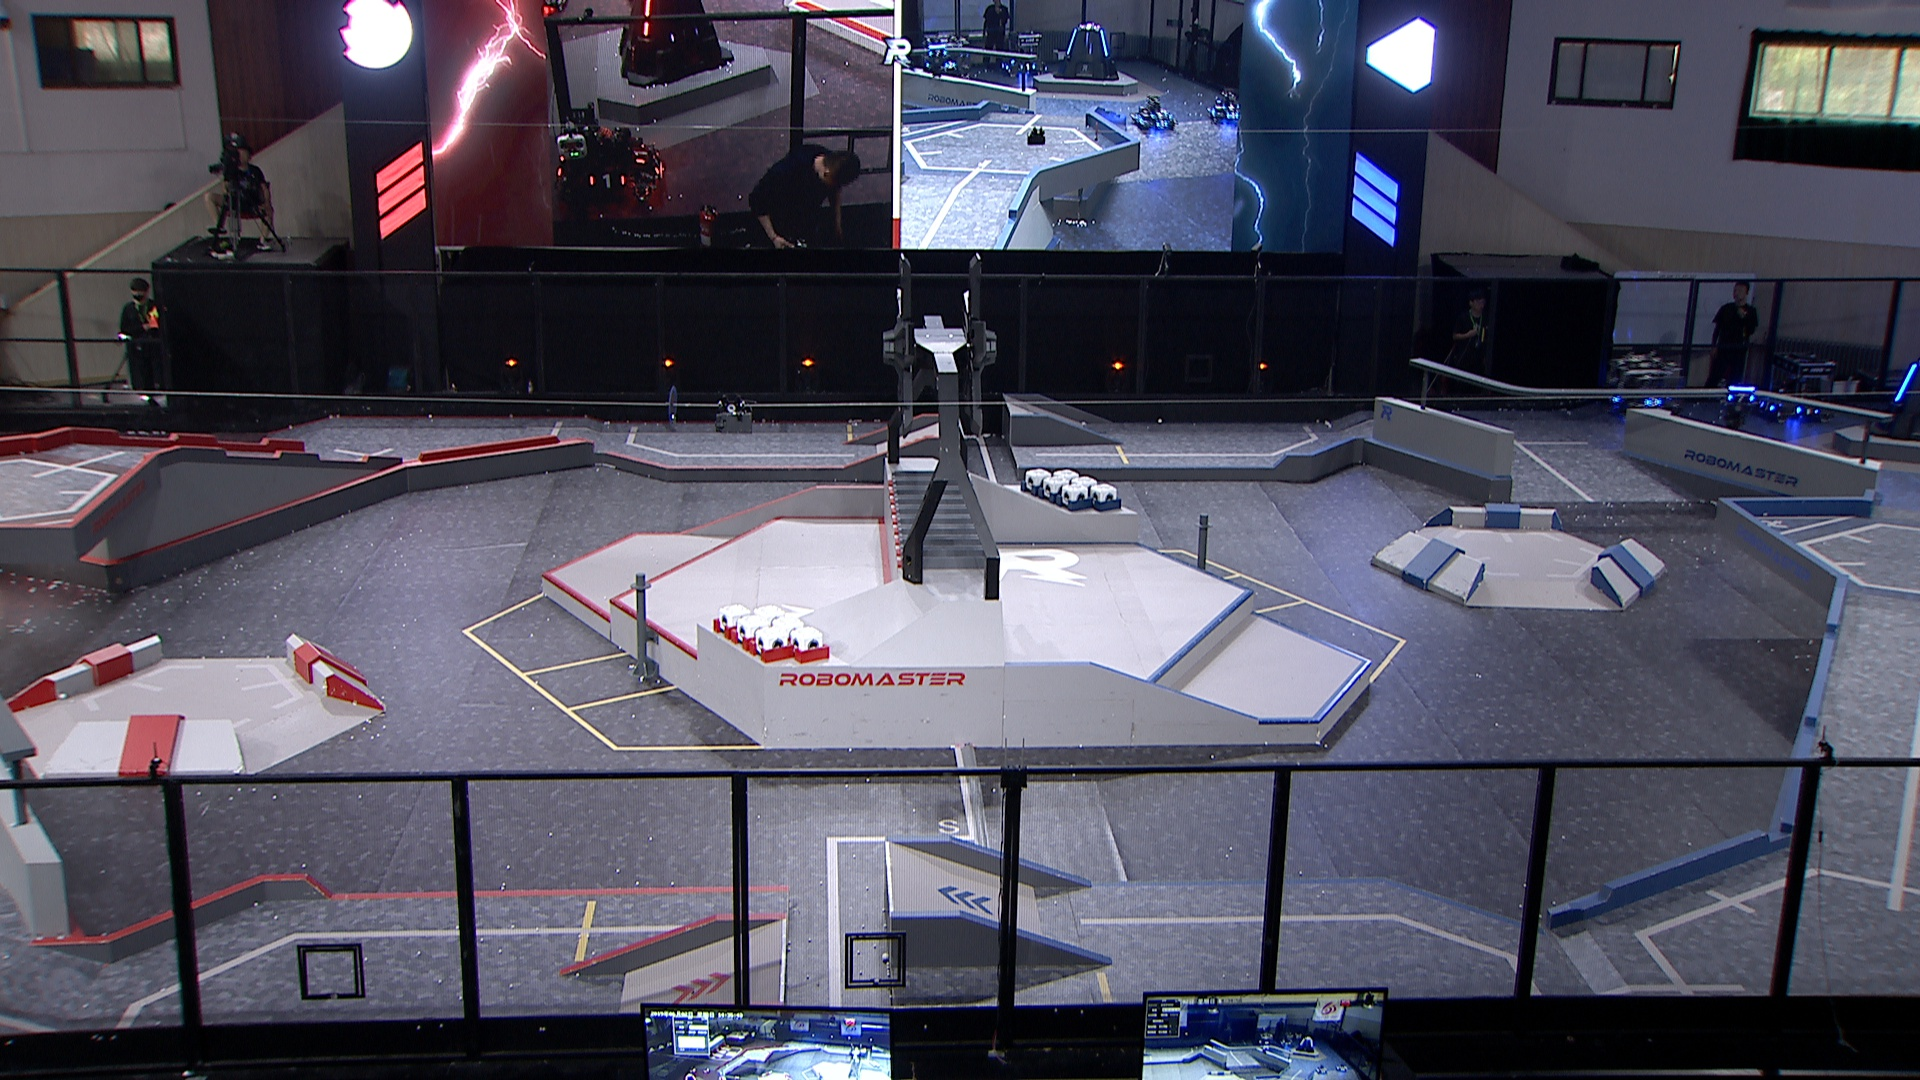armor: (1890, 363, 1917, 404), (1726, 392, 1756, 405), (1793, 404, 1821, 417), (1755, 400, 1776, 414), (1643, 396, 1665, 407)
base: (1861, 332, 1920, 442)
car: (1747, 351, 1842, 429), (1610, 349, 1687, 419)
ignore: (549, 107, 665, 204), (1051, 20, 1120, 82), (997, 29, 1054, 79), (916, 33, 975, 79), (1127, 95, 1178, 131), (1207, 87, 1238, 121), (922, 44, 949, 76)
watcher: (1716, 375, 1759, 429)
